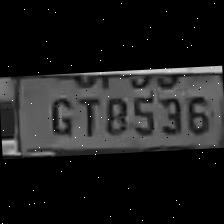3: (154, 91, 182, 137)
5: (127, 91, 156, 136)
6: (181, 90, 211, 135)
8: (98, 91, 128, 136)
G: (44, 91, 74, 136)
T: (72, 92, 102, 138)
